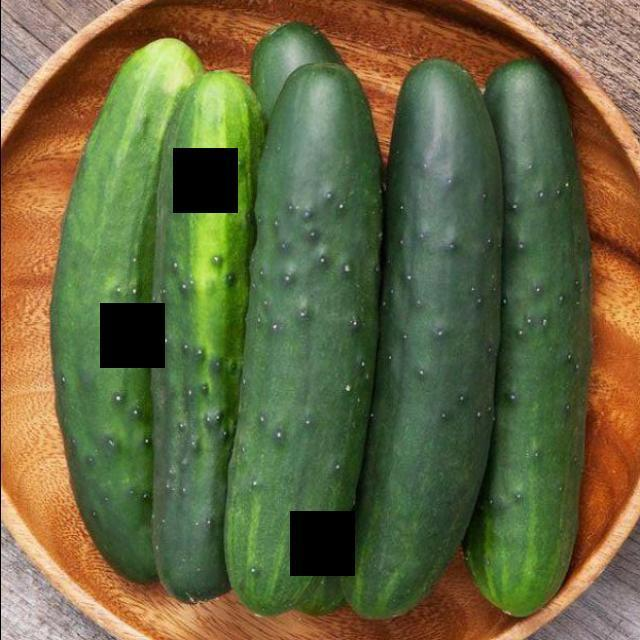cucumber: (339, 42, 501, 626), (226, 53, 374, 628), (49, 39, 192, 627), (148, 66, 255, 628), (486, 60, 592, 620)
